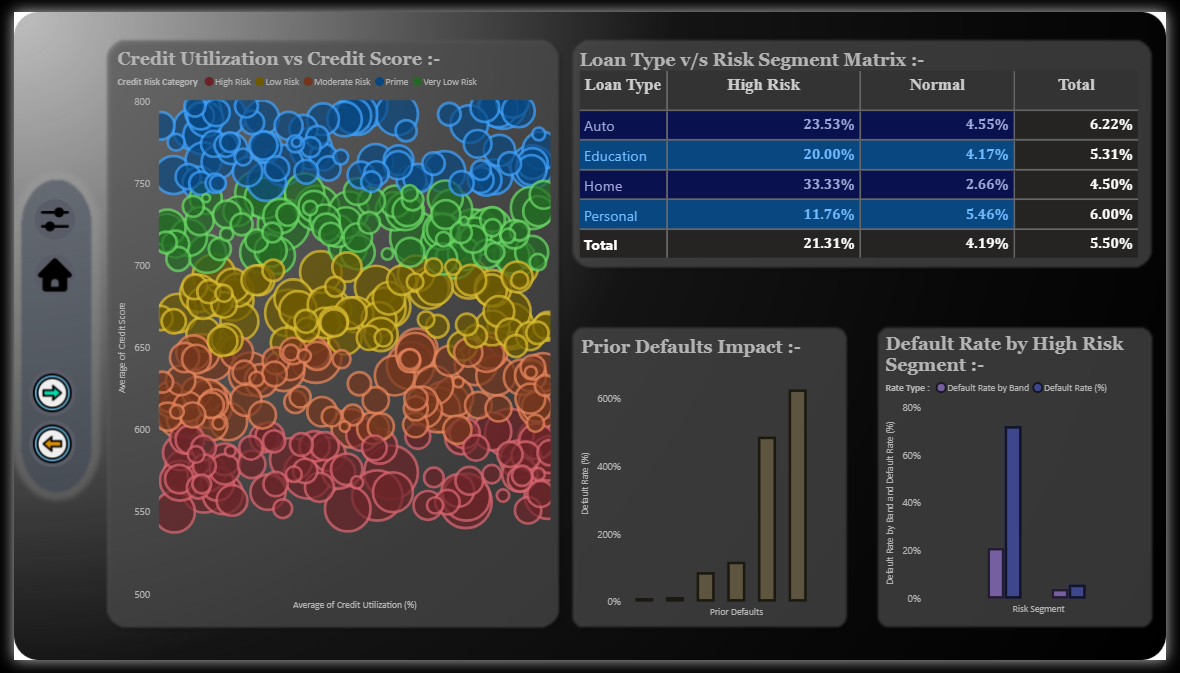

Layout of this report page (visuals, bound fields, positions):
{"tool":"powerbi","page":{"name":"Credit Risk Segmentation :-","canvas":[1280,720],"ordinal":3},"visuals":[{"type":"group","id":"g1","title":"Visuals ","box":[110.6,40.7,1154.5,636.7],"z":0},{"type":"scatterChart","title":"Credit Utilization vs Credit Score :-","fields":{"Category":["Loan_Risk_View.customer_id","Loan_Risk_View.loan_id"],"Series":["Loan_Risk_View.Credit Risk Category"],"Size":["Sum(Loan_Risk_View.loan_amount)"],"X":["Avg(Loan_Risk_View.credit_utilization_pct)"],"Y":["Avg(Loan_Risk_View.credit_score)"]},"box":[110.6,40.7,491.2,629.5],"z":0,"group":"g1"},{"type":"actionButton","title":"Previous_Page","box":[0,429.4,84.6,99.2],"z":0,"group":"g2"},{"type":"group","id":"g2","title":"Buttons ","box":[0,193.6,84.6,335.1],"z":1000},{"type":"clusteredColumnChart","title":"Default Rate by High Risk Segment :-","fields":{"Category":["tab_customers.High Risk Segment"],"Y":["MyMeasures.Default Rate by Band","MyMeasures.Default Rate %"]},"box":[964.3,357.3,300.8,318],"z":1000,"group":"g1"},{"type":"actionButton","title":"Next_Page","box":[0,374.1,84.6,99.2],"z":1000,"group":"g2"},{"type":"actionButton","title":"Home_Page","box":[9,255.4,74.8,74.8],"z":2000,"group":"g2"},{"type":"clusteredColumnChart","title":"Prior Defaults Impact :-","fields":{"Category":["tab_credit_history.prior_defaults"],"Y":["MyMeasures.Default Rate %"]},"box":[623.9,360.7,300,316.7],"z":2000,"group":"g1"},{"type":"pivotTable","title":"Loan Type v/s Risk Segment Matrix :-","fields":{"Columns":["tab_customers.Risk Segment"],"Rows":["tab_loans.loan_type"],"Values":["MyMeasures.Default Rate by Band"]},"box":[623.4,41.5,640.3,249.2],"z":3000,"group":"g1"},{"type":"actionButton","title":"Filter_Page","box":[9,193.6,74.8,74.8],"z":3000,"group":"g2"}]}

Visuals, with their boxes in screenshot pixels (x1, y1, x2, y2), scaled from the page's 1280x720 canvas onto the 1180x673 screenshot:
"Visuals " group: 102/38/1166/633
"Credit Utilization vs Credit Score :-" scatterChart: 102/38/555/626
"Previous_Page" actionButton: 0/401/78/494
"Buttons " group: 0/181/78/494
"Default Rate by High Risk Segment :-" clusteredColumnChart: 889/334/1166/631
"Next_Page" actionButton: 0/350/78/442
"Home_Page" actionButton: 8/239/77/309
"Prior Defaults Impact :-" clusteredColumnChart: 575/337/852/633
"Loan Type v/s Risk Segment Matrix :-" pivotTable: 575/39/1165/272
"Filter_Page" actionButton: 8/181/77/251
